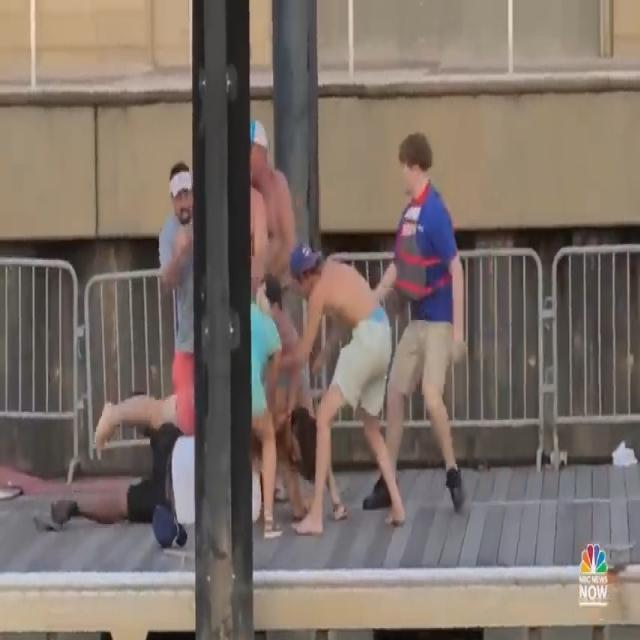fight: (48, 102, 496, 532)
non-fight: (367, 114, 477, 528)
